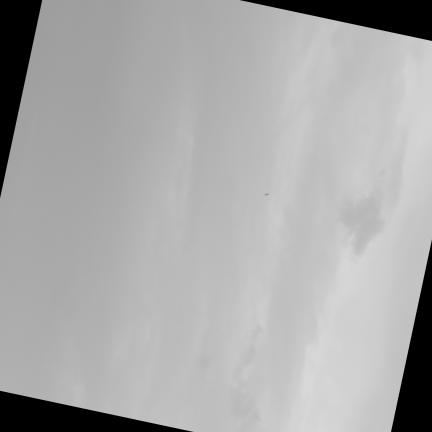Shahed: (262, 192, 269, 196)
